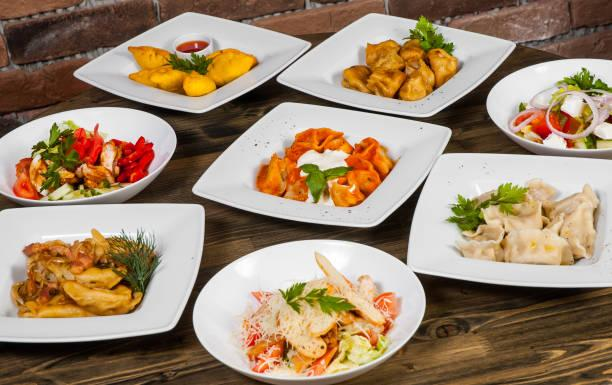Braised Crucian Carp: (197, 95, 451, 235), (191, 239, 422, 384), (0, 201, 206, 344), (405, 152, 611, 289), (298, 7, 509, 124), (82, 14, 310, 118), (0, 104, 176, 198), (486, 57, 610, 159)
